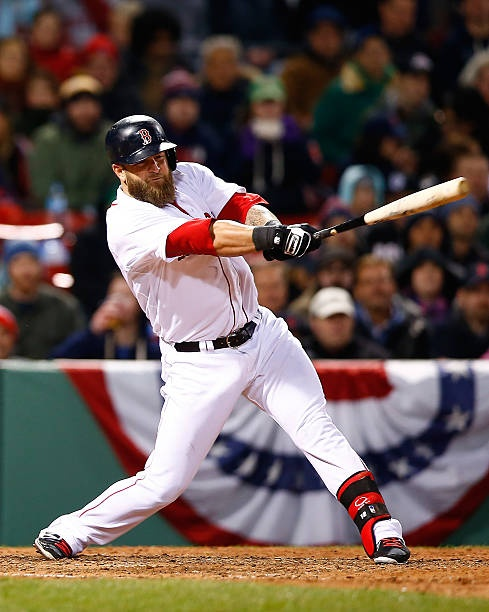bita: (306, 179, 470, 247)
